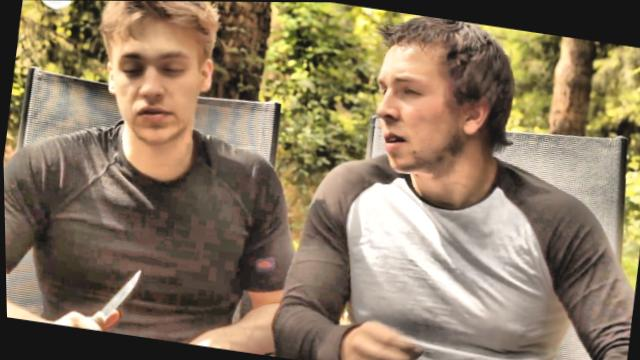knife: (55, 251, 153, 337)
